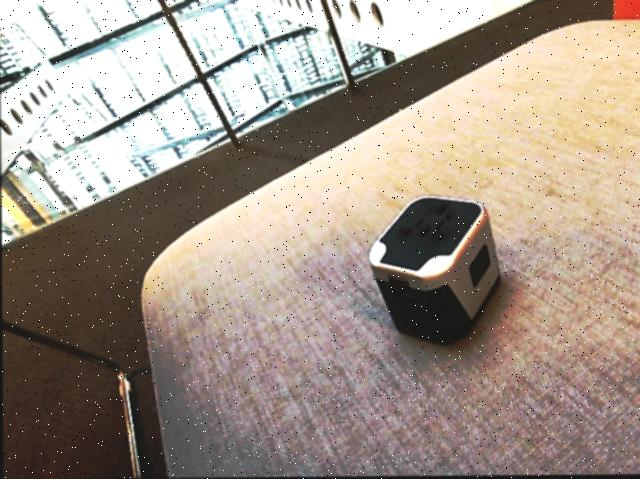adapter: (367, 195, 500, 346)
